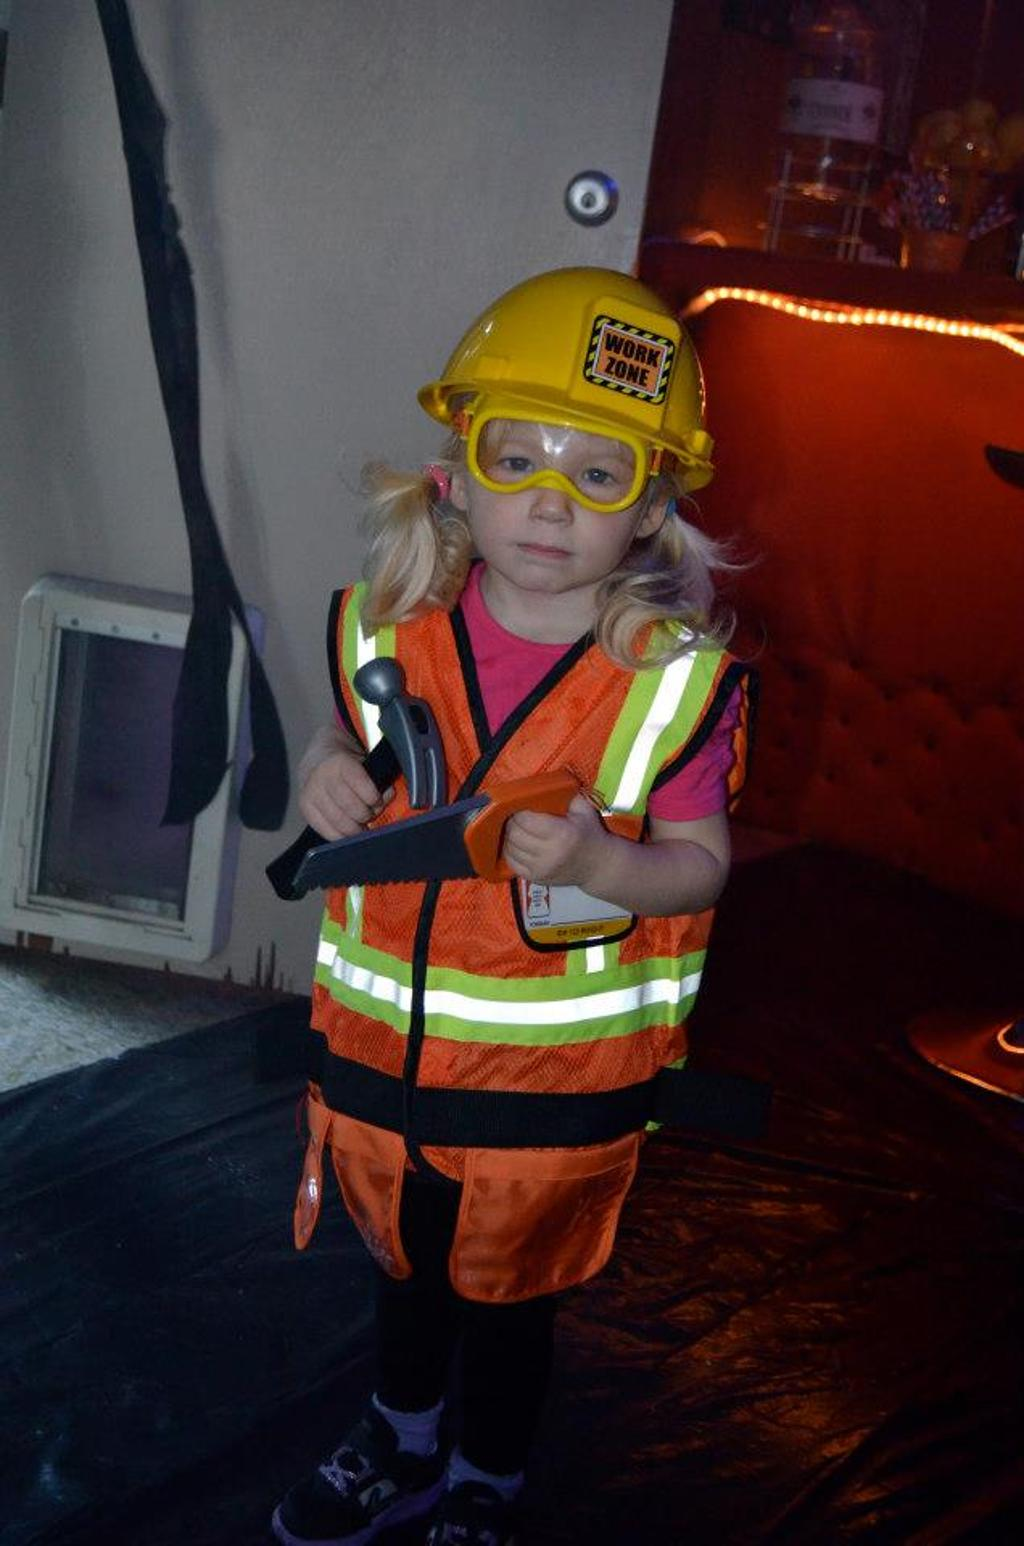face: (471, 350, 646, 589)
